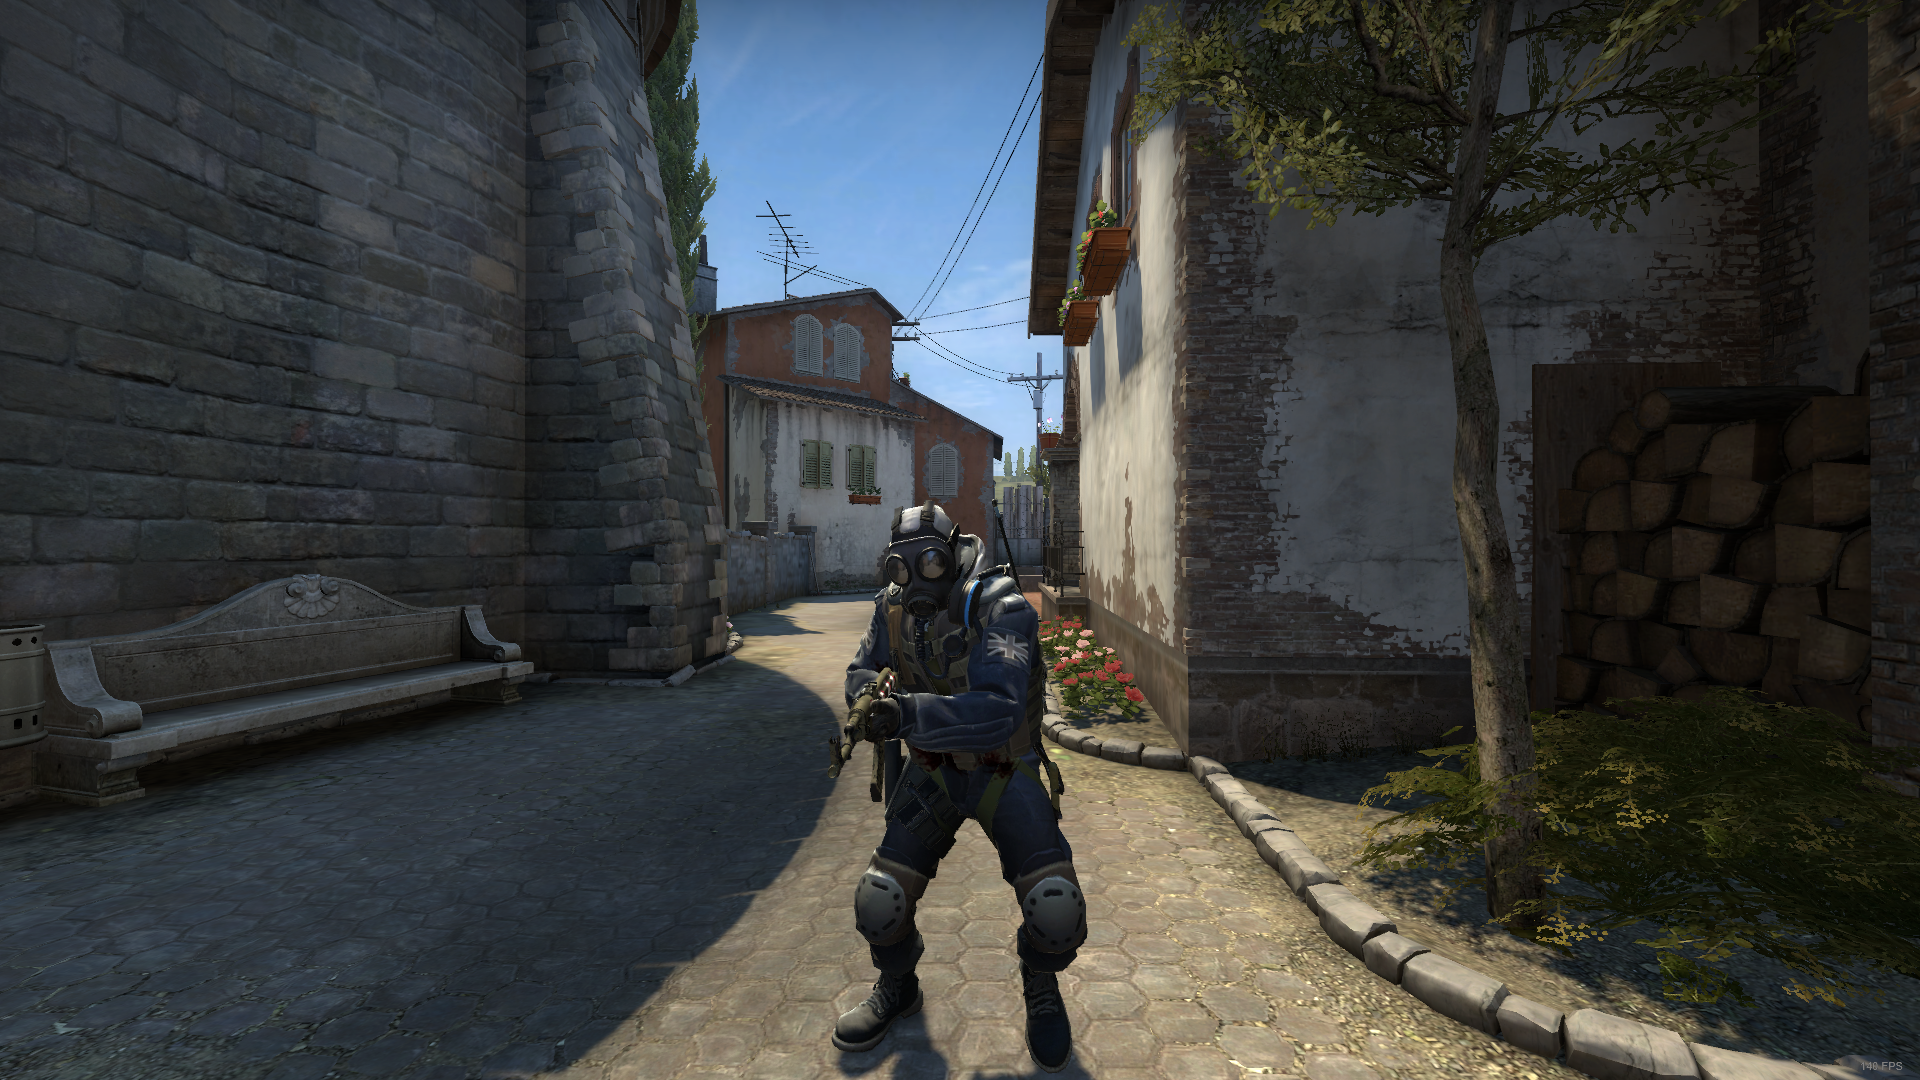ct: (822, 500, 1122, 1069)
